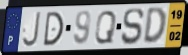9: (73, 10, 92, 47)
D: (142, 6, 168, 46), (42, 11, 65, 48)
J: (21, 10, 42, 49)
Q: (93, 9, 118, 46)
S: (120, 7, 145, 47)
